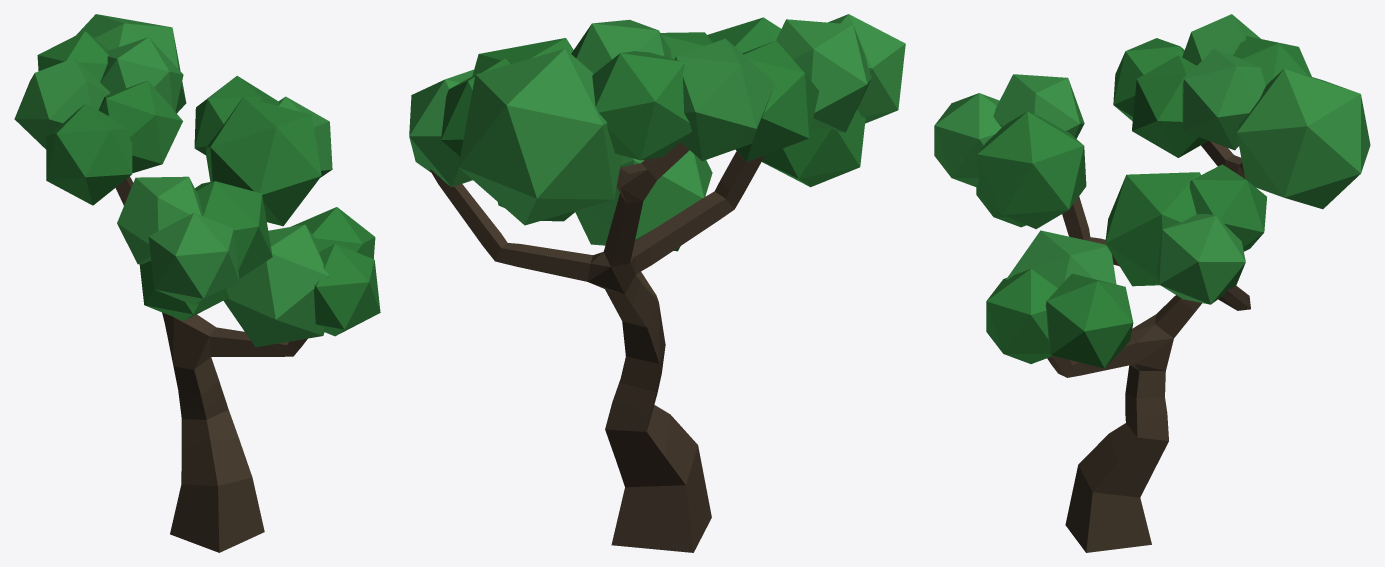
The model's file is Tree2.glb.
The picture shows the model from 3 angles, left to right: view 1: azimuth 30°, elevation 25°; view 2: azimuth 150°, elevation 25°; view 3: azimuth 270°, elevation 25°; orthographic projection. The views are drawn at different scales.
Visible parts, largest first — view 1: Trunk, Leaf.011, Leaf.009, Leaf.001, Leaf.002, Leaf.003, Leaf.014, Leaf.005, Leaf.013, Leaf.006, Leaf.015, Leaf (+5 smaller); view 2: Trunk, Leaf, Leaf.012, Leaf.014, Leaf.005, Leaf.001, Leaf.009, Leaf.016, Leaf.004, Leaf.002, Leaf.015, Leaf.010 (+3 smaller); view 3: Trunk, Leaf, Leaf.006, Leaf.011, Leaf.008, Leaf.004, Leaf.015, Leaf.003, Leaf.013, Leaf.002, Leaf.010, Leaf.009 (+4 smaller).
Part boxes in pixels (<box>): Trunk: <box>115,176,307,552</box>; Leaf.011: <box>206,97,321,226</box>; Leaf.009: <box>223,224,328,347</box>; Leaf.001: <box>46,104,132,205</box>; Leaf.002: <box>148,213,239,305</box>; Leaf.003: <box>314,243,380,336</box>; Leaf.014: <box>14,58,110,149</box>; Leaf.005: <box>117,176,203,264</box>; Leaf.013: <box>98,80,182,173</box>; Leaf.006: <box>195,181,272,278</box>; Leaf.015: <box>100,37,183,111</box>; Leaf: <box>76,14,186,113</box>; Trunk: <box>430,142,765,552</box>; Leaf: <box>458,48,622,225</box>; Leaf.012: <box>592,51,691,160</box>; Leaf.014: <box>674,38,775,161</box>; Leaf.005: <box>776,19,871,132</box>; Leaf.001: <box>735,40,818,161</box>; Leaf.009: <box>575,150,712,251</box>; Leaf.016: <box>762,109,865,187</box>; Leaf.004: <box>409,69,473,187</box>; Leaf.002: <box>828,14,905,123</box>; Leaf.015: <box>571,19,671,73</box>; Leaf.010: <box>441,58,510,156</box>; Trunk: <box>1047,141,1250,552</box>; Leaf: <box>1236,68,1370,209</box>; Leaf.006: <box>977,111,1086,228</box>; Leaf.011: <box>1105,172,1200,286</box>; Leaf.008: <box>1045,273,1133,368</box>; Leaf.004: <box>1157,213,1245,304</box>; Leaf.015: <box>1182,48,1265,150</box>; Leaf.003: <box>986,269,1058,363</box>; Leaf.013: <box>1132,55,1208,157</box>; Leaf.002: <box>934,93,1001,186</box>; Leaf.010: <box>1189,164,1266,251</box>; Leaf.009: <box>1006,230,1116,286</box>.
Bounding box in the file's own units: 6.78 × 9.79 × 8.28.
